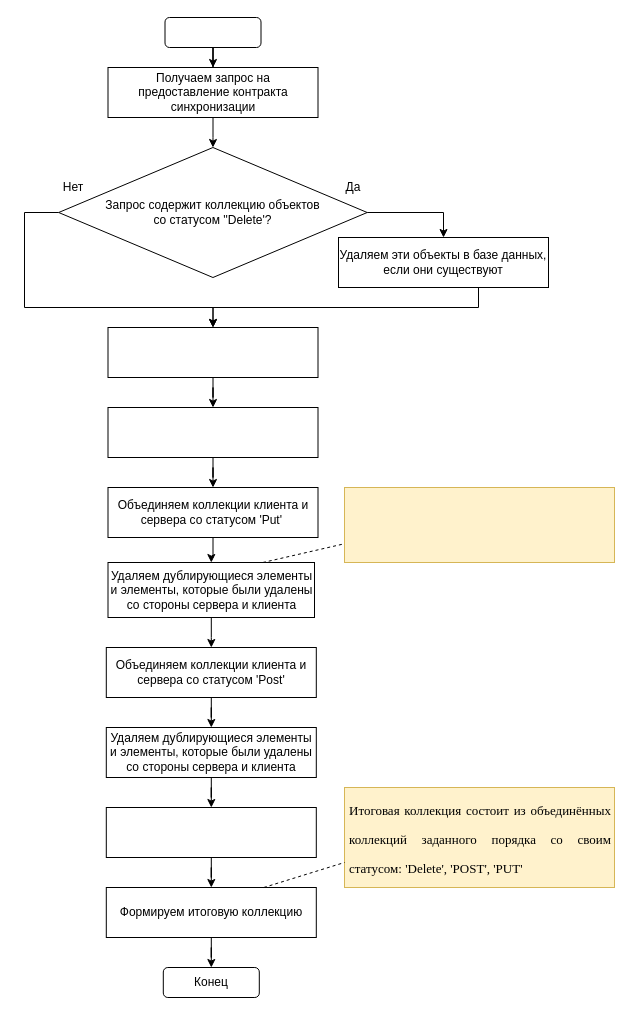
The diagram is 632 pixels wide and 1015 high, and some of its shapes have lost their labels. Here are the shapes that lost their labels. From the top down, the centre of each, then its label:
At point 212,32: "Начало".
At point 212,352: "Получаем данные изменений базы данных".
At point 212,432: "Формируем коллекцию данных для удаления со стороны клиента".
At point 479,524: "В результирующую коллекцию попадут элементы с более актуальной информацией".
At point 210,832: "Сортируем коллекции по полю 'Date'".
